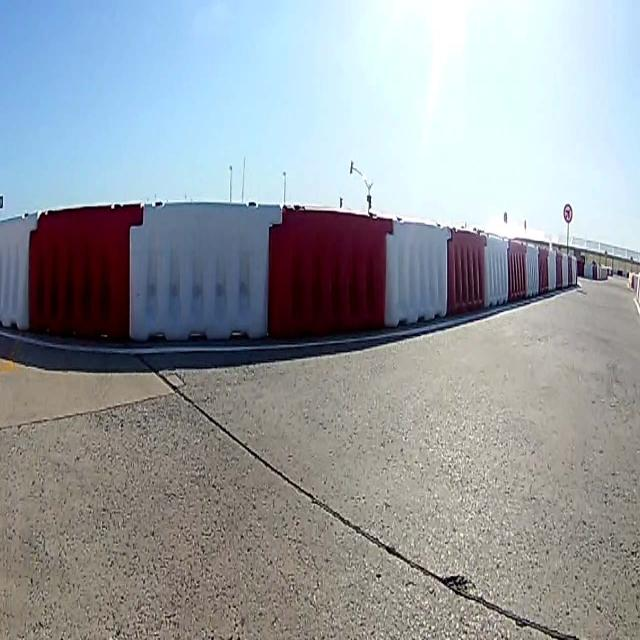soladonulmez: (562, 202, 574, 222)
